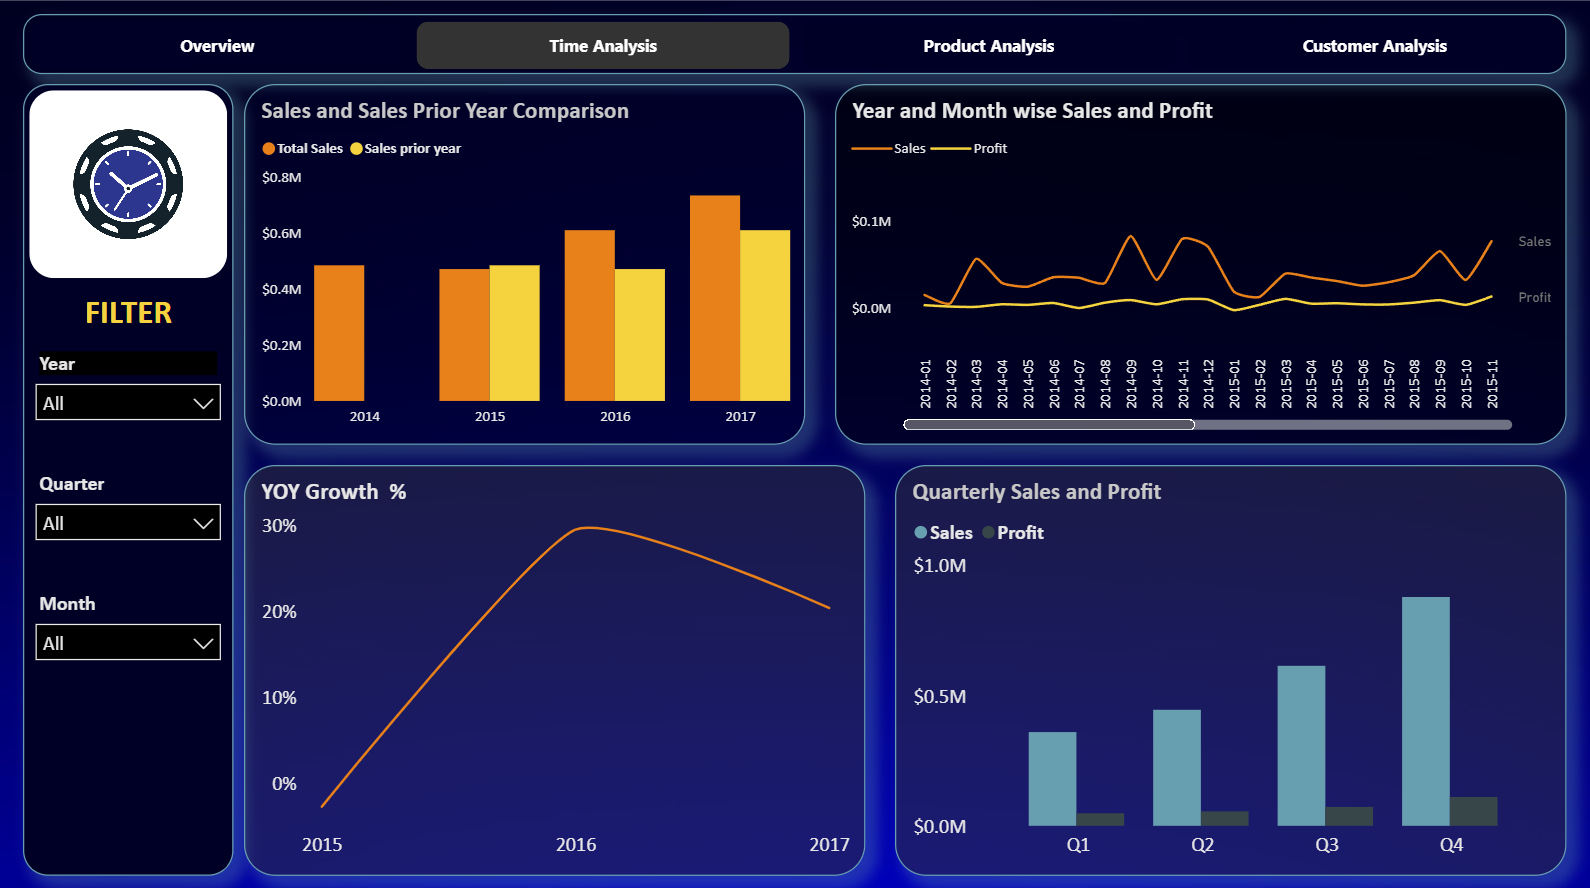

Layout of this report page (visuals, bound fields, positions):
{"tool":"powerbi","page":{"name":"Time Analysis","canvas":[1280,720],"ordinal":1},"visuals":[{"type":"clusteredColumnChart","title":"Sales and Sales Prior Year Comparison","fields":{"Category":["dim_date.Year"],"Y":["Sum(fact_sales.sales)","fact_sales.Sales last year"]},"box":[91.4,109.9,414.3,280.1],"z":0},{"type":"slicer","fields":{"Values":["dim_date.Year"]},"box":[1120,112,112,120],"z":1000},{"type":"slicer","fields":{"Values":["dim_date.Quarter"]},"box":[1120,296,112,144],"z":2000},{"type":"slicer","fields":{"Values":["dim_date.Month Name"]},"box":[1120,488,112,136],"z":3000},{"type":"lineChart","title":"YOY Growth  %","fields":{"Category":["dim_date.Year"],"Y":["dim_date.YOY Growth %"]},"box":[88,416,416,248],"z":4000},{"type":"lineChart","title":"Year and Month wise Sales and Profit","fields":{"Category":["dim_date.Year Month"],"Y":["Sum(fact_sales.sales)","Sum(fact_sales.profit)"]},"box":[568,112,528,280],"z":5000},{"type":"clusteredColumnChart","title":"Quarterly Sales and Profit","fields":{"Category":["dim_date.Quarter"],"Y":["Sum(fact_sales.sales)","Sum(fact_sales.profit)"]},"box":[568,416,528,248],"z":6000},{"type":"textbox","box":[88,24,1144,80],"z":7000},{"type":"pageNavigator","box":[88,672,1144,48],"z":7001}]}

Visuals, with their boxes in screenshot pixels (x1, y1, x2, y2), scaled from the page's 1280x720 canvas onto the 1590x888 screenshot:
"Sales and Sales Prior Year Comparison" clusteredColumnChart: 114:136:628:481
slicer - dim_date.Year: 1391:138:1530:286
slicer - dim_date.Quarter: 1391:365:1530:543
slicer - dim_date.Month Name: 1391:602:1530:770
"YOY Growth  %" lineChart: 109:513:626:819
"Year and Month wise Sales and Profit" lineChart: 706:138:1361:483
"Quarterly Sales and Profit" clusteredColumnChart: 706:513:1361:819
textbox: 109:30:1530:128
pageNavigator: 109:829:1530:887
